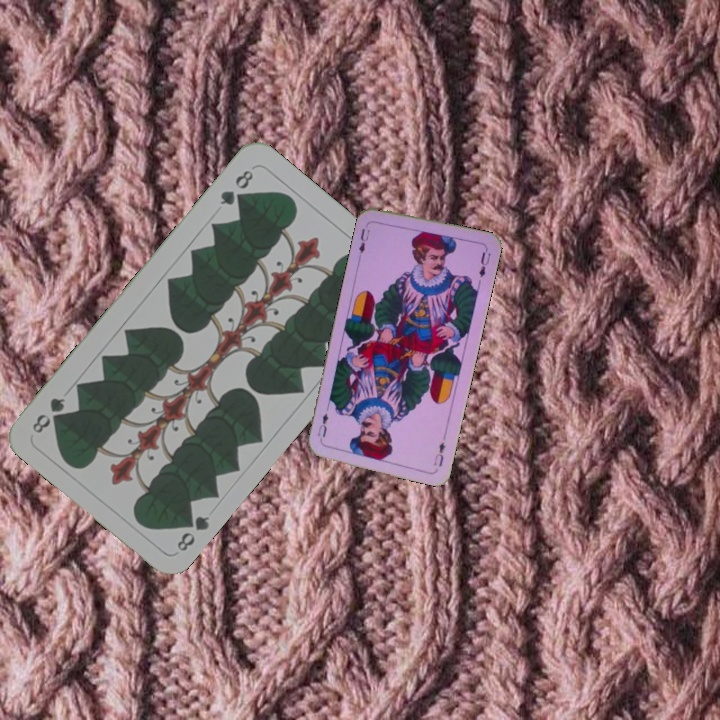EU: (355, 219, 373, 259), (429, 438, 448, 469)
G8: (172, 510, 212, 554), (216, 165, 256, 208)
